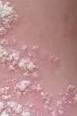plaque psoriasis: (0, 41, 48, 102), (35, 75, 77, 116), (0, 91, 49, 116), (0, 0, 14, 52)
